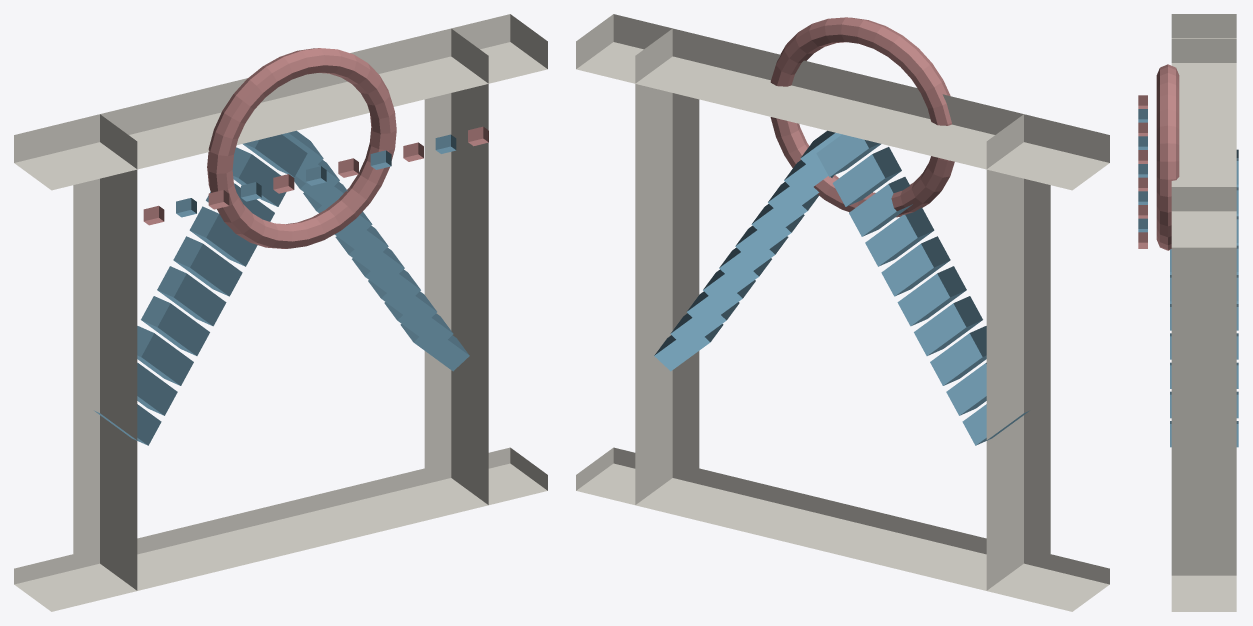
Rendered from ottoman_iznik_domed_arch.glb.
3 views of the same model, side by side, from view 1: azimuth 30°, elevation 25°; view 2: azimuth 150°, elevation 25°; view 3: azimuth 270°, elevation 25° (orthographic). The views are drawn at different scales.
Parts seen in each view (by area): view 1: ottoman_iznik_domed_arch; view 2: ottoman_iznik_domed_arch; view 3: ottoman_iznik_domed_arch.
Boxes of the visible parts, x1,y1,x2,y2 form: ottoman_iznik_domed_arch: [14, 14, 547, 611]; ottoman_iznik_domed_arch: [576, 14, 1109, 611]; ottoman_iznik_domed_arch: [1138, 14, 1238, 611].
Bounding box in the file's own units: 5.2 × 5.03 × 1.05.
